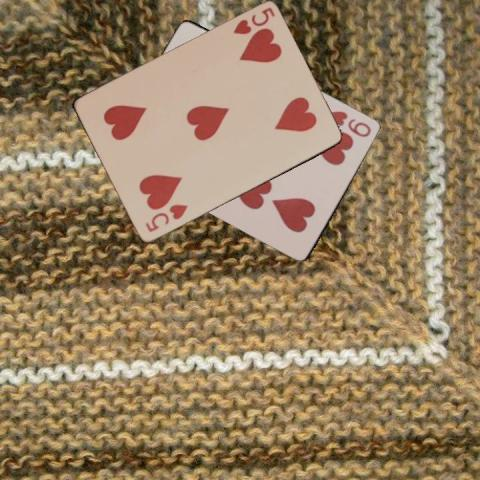5h: (142, 201, 189, 234), (229, 5, 276, 36)
9h: (327, 107, 373, 139)
